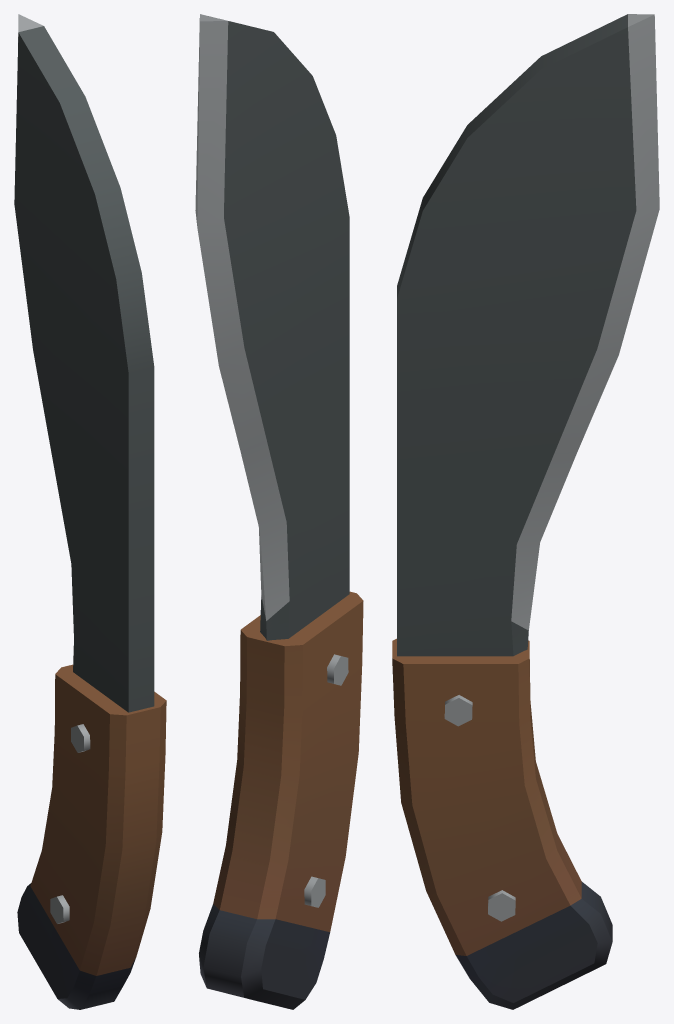
Rendered from MeleeWeaponAgent_Knife_06_Gurkhakukri.fbx.
3 views of the same model, side by side, from view 1: azimuth 30°, elevation 25°; view 2: azimuth 150°, elevation 25°; view 3: azimuth 270°, elevation 25° (orthographic). The views are drawn at different scales.
Visible parts, largest first — view 1: Knife06; view 2: Knife06; view 3: Knife06.
Part boxes in pixels (box(x1,y1,x2,y2)): Knife06: box(14, 14, 166, 1009); Knife06: box(195, 14, 363, 1009); Knife06: box(392, 14, 659, 1009).
Bounding box in the file's own units: 0.0861 × 1.12 × 0.2761.
